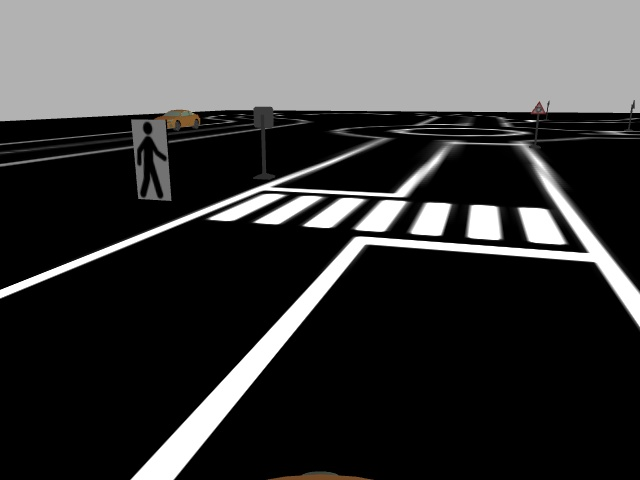pedestrian: (129, 117, 174, 203)
